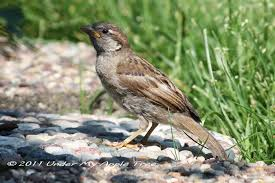hsparrow: (81, 18, 229, 166)
